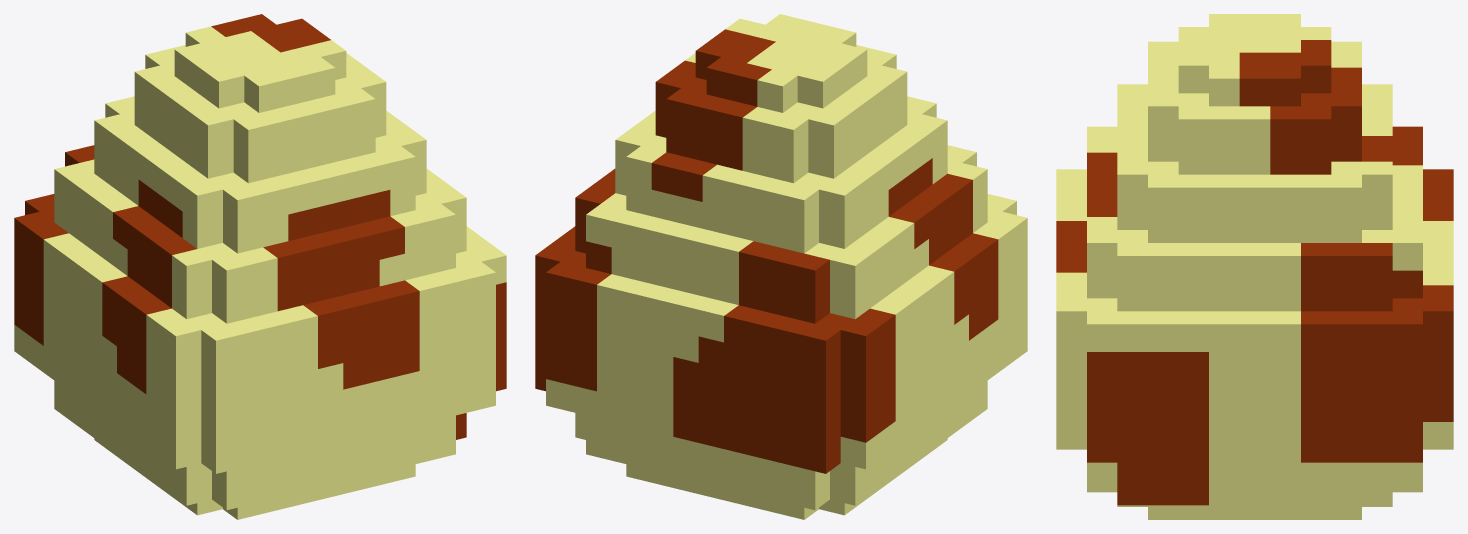
Rendered from dragonegg.obj.
3 views of the same model, side by side, from view 1: azimuth 30°, elevation 25°; view 2: azimuth 150°, elevation 25°; view 3: azimuth 270°, elevation 25° (orthographic). The views are drawn at different scales.
Size of the model in its own units: 1.3 by 1.5 by 1.3.
Materials: 1 (1 with a texture image).
